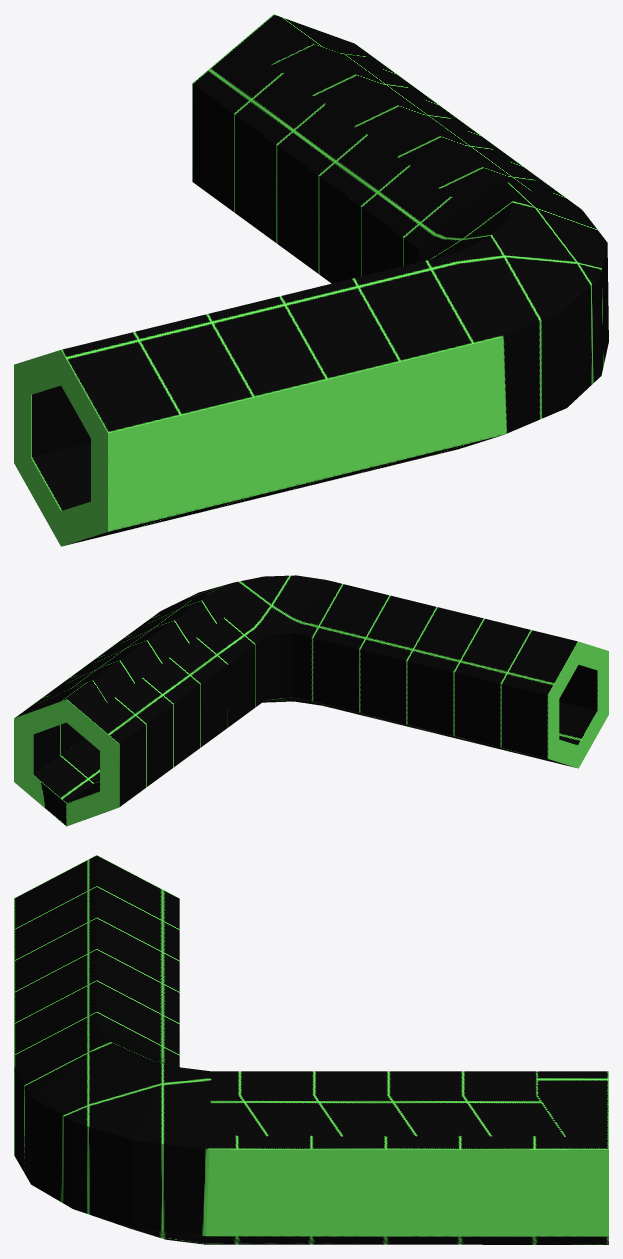
The model's file is last.fbx.
3 renders of one model, top to bottom at view 1: azimuth 30°, elevation 25°; view 2: azimuth 150°, elevation 25°; view 3: azimuth 270°, elevation 25°, orthographic. The views are drawn at different scales.
Parts seen in each view (by area): view 1: Torus.002; view 2: Torus.002; view 3: Torus.002.
Part boxes in pixels (x1=…): Torus.002: x1=14, y1=14, x2=608, y2=546; Torus.002: x1=14, y1=575, x2=608, y2=826; Torus.002: x1=14, y1=855, x2=608, y2=1244.
Size of the model in its own units: 5440 by 1765 by 5440.
1 material, 1 textured.
